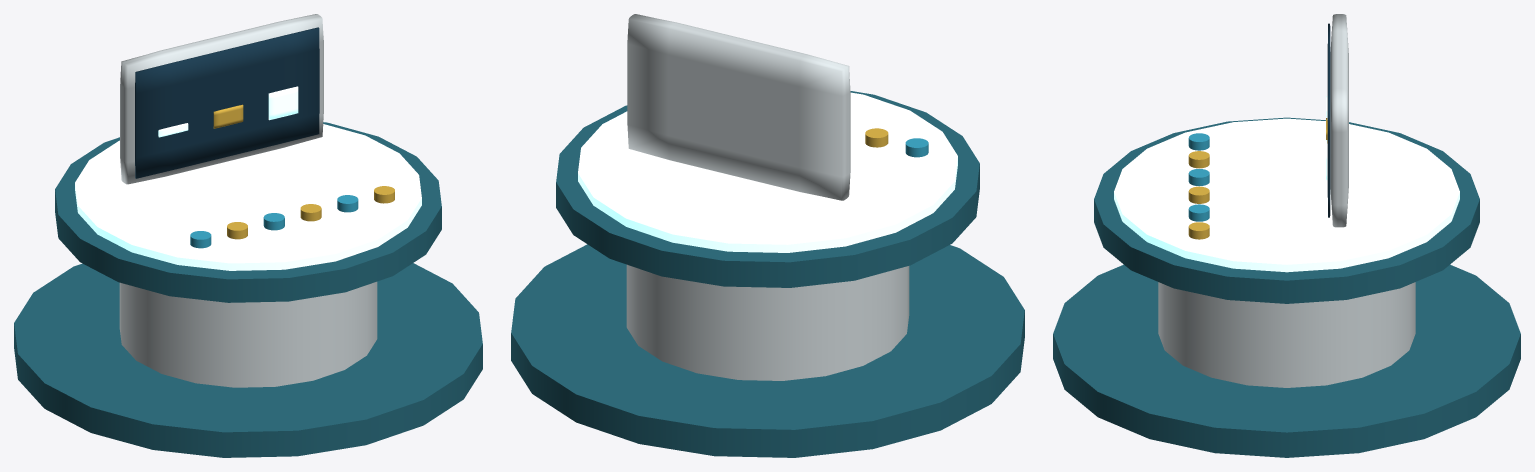
The model's file is consola-central.glb.
The picture shows the model from 3 angles, left to right: view 1: azimuth 30°, elevation 25°; view 2: azimuth 150°, elevation 25°; view 3: azimuth 270°, elevation 25°; orthographic projection. The views are drawn at different scales.
Parts seen in each view (by area): view 1: Petroleo, Luz, Blanco, Pantalla, Amarillo, Agua; view 2: Petroleo, Blanco, Luz; view 3: Petroleo, Luz, Blanco, Amarillo, Agua, Pantalla.
Boxes of the visible parts, x1,y1,x2,y2 form: Petroleo: (14,122,482,457); Luz: (75,86,421,270); Blanco: (119,14,377,387); Pantalla: (135,27,319,178); Amarillo: (213,104,394,239); Agua: (190,195,358,248); Petroleo: (511,91,1024,457); Blanco: (626,14,909,380); Luz: (578,92,957,252); Petroleo: (1053,117,1520,457); Luz: (1114,96,1459,272); Blanco: (1158,14,1415,387); Amarillo: (1188,118,1327,239); Agua: (1188,133,1209,221); Pantalla: (1327,23,1330,217).
Size of the model in its own units: 5.4 by 3.81 by 5.4.
